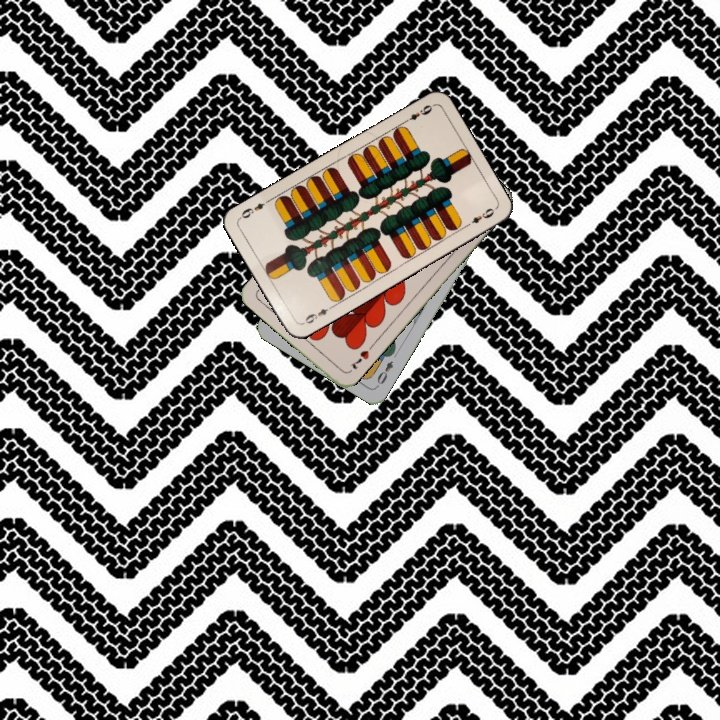E9: (298, 302, 335, 327), (399, 101, 435, 126)
EO: (372, 357, 396, 390)
H7: (346, 346, 372, 372)
